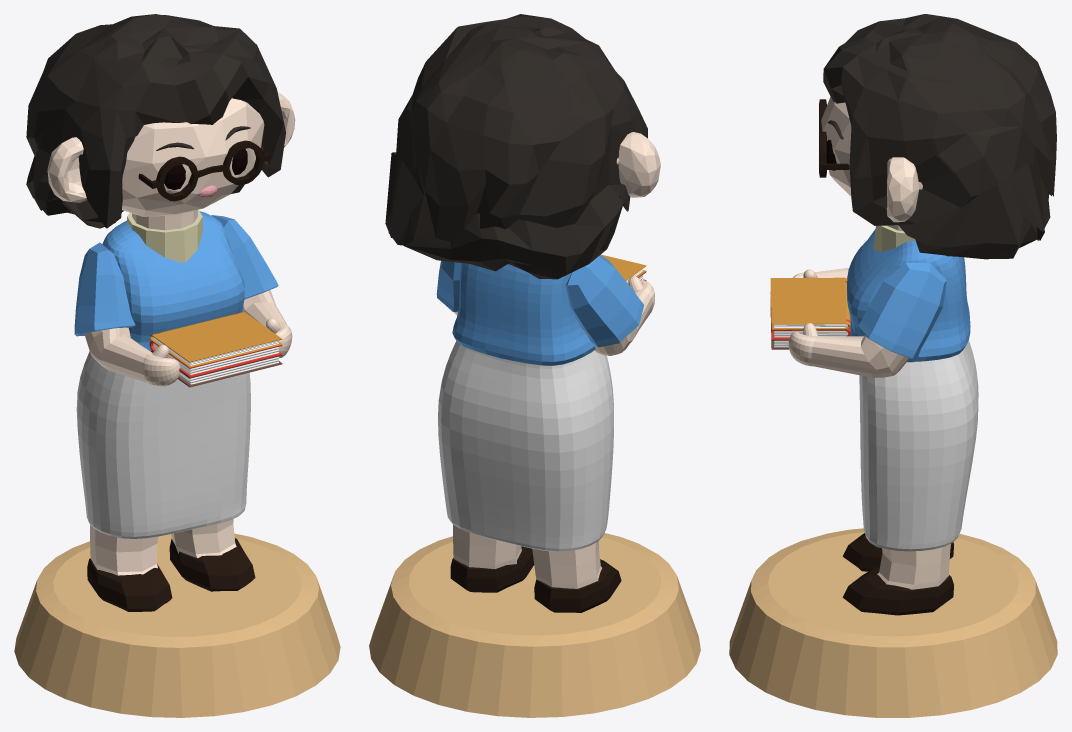
The model's file is marta_primerL.fbx.
The picture shows the model from 3 angles, left to right: view 1: azimuth 30°, elevation 25°; view 2: azimuth 150°, elevation 25°; view 3: azimuth 270°, elevation 25°; orthographic projection.
Visible parts, largest first — view 1: Cylinder.041, Cube.042, Sphere.001, Cube.047, Roundcube.041, Cube.046, Cube.026, Sphere.004, Roundcube.040, Book1_Cube.025, Cube.027, Cube.043 (+6 smaller); view 2: Sphere.004, Cylinder.041, Cube.042, Cube.047, Sphere.001, Cube.046, Cube.027, Cube.026, Cube.043, Roundcube.040, Book1_Cube.025; view 3: Cylinder.041, Sphere.004, Cube.042, Sphere.001, Cube.047, Cube.046, Roundcube.040, Cube.026, Book1_Cube.025, Cube.027, Cube.043, Roundcube.041 (+3 smaller).
Part boxes in pixels (left/top/right/bottom): Cylinder.041: left=14, top=533, right=340, bottom=717; Cube.042: left=76, top=351, right=250, bottom=539; Sphere.001: left=27, top=14, right=285, bottom=228; Cube.047: left=102, top=211, right=244, bottom=351; Roundcube.041: left=122, top=98, right=264, bottom=216; Cube.046: left=74, top=215, right=278, bottom=336; Cube.026: left=87, top=538, right=255, bottom=611; Sphere.004: left=26, top=14, right=267, bottom=227; Roundcube.040: left=84, top=290, right=292, bottom=386; Book1_Cube.025: left=150, top=312, right=282, bottom=367; Cube.027: left=90, top=519, right=236, bottom=575; Cube.043: left=47, top=91, right=295, bottom=202; Sphere.004: left=385, top=17, right=636, bottom=279; Cylinder.041: left=369, top=533, right=700, bottom=717; Cube.042: left=438, top=341, right=613, bottom=551; Cube.047: left=452, top=263, right=595, bottom=365; Sphere.001: left=392, top=14, right=647, bottom=272; Cube.046: left=436, top=255, right=644, bottom=347; Cube.027: left=453, top=525, right=601, bottom=588; Cube.026: left=450, top=546, right=621, bottom=612; Cube.043: left=618, top=132, right=660, bottom=197; Roundcube.040: left=454, top=276, right=654, bottom=355; Book1_Cube.025: left=600, top=254, right=646, bottom=283; Cylinder.041: left=729, top=528, right=1057, bottom=717; Sphere.004: left=854, top=14, right=1056, bottom=259; Cube.042: left=859, top=340, right=978, bottom=551; Sphere.001: left=823, top=14, right=1051, bottom=259; Cube.047: left=847, top=232, right=970, bottom=362; Cube.046: left=858, top=229, right=946, bottom=358; Roundcube.040: left=788, top=268, right=909, bottom=377; Cube.026: left=842, top=533, right=953, bottom=615; Book1_Cube.025: left=770, top=277, right=850, bottom=329; Cube.027: left=877, top=543, right=950, bottom=589; Cube.043: left=886, top=157, right=919, bottom=222; Roundcube.041: left=821, top=96, right=922, bottom=196.
Bounding box in the file's own units: 30.46 × 63.88 × 30.46.
